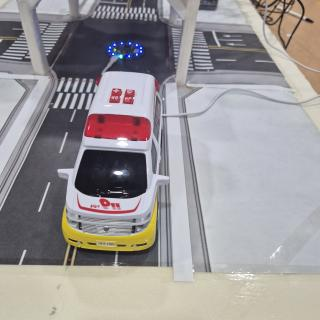Ambulance: (58, 71, 169, 252)
